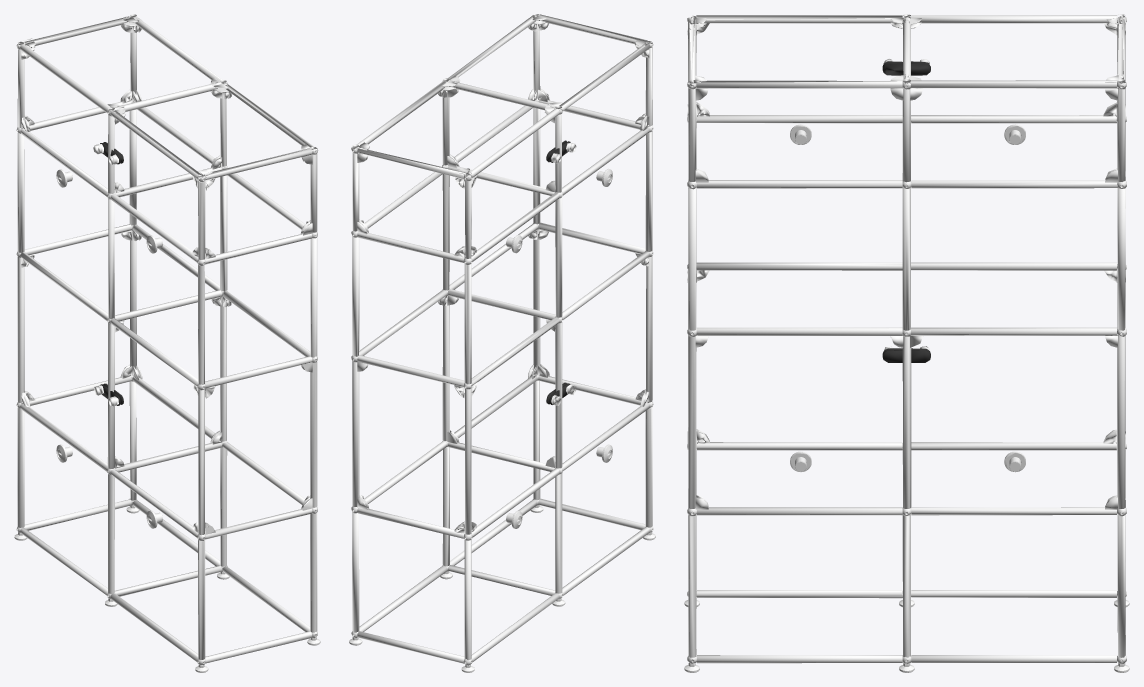
Rendered from small-rack.glb.
The picture shows the model from 3 angles, left to right: view 1: azimuth 30°, elevation 25°; view 2: azimuth 150°, elevation 25°; view 3: azimuth 270°, elevation 25°; orthographic projection. The views are drawn at different scales.
Visible parts, largest first — view 1: Barres métal.002; view 2: Barres métal.002; view 3: Barres métal.002, Poignée métal noir.002.
Boxes of the visible parts, x1,y1,x2,y2 form: Barres métal.002: (14,14,320,672); Barres métal.002: (349,14,655,672); Barres métal.002: (684,14,1129,672); Poignée métal noir.002: (882,61,930,362).
Size of the model in its own units: 0.442 by 1.66 by 1.14.
Materials: 2 (2 with a texture image).
